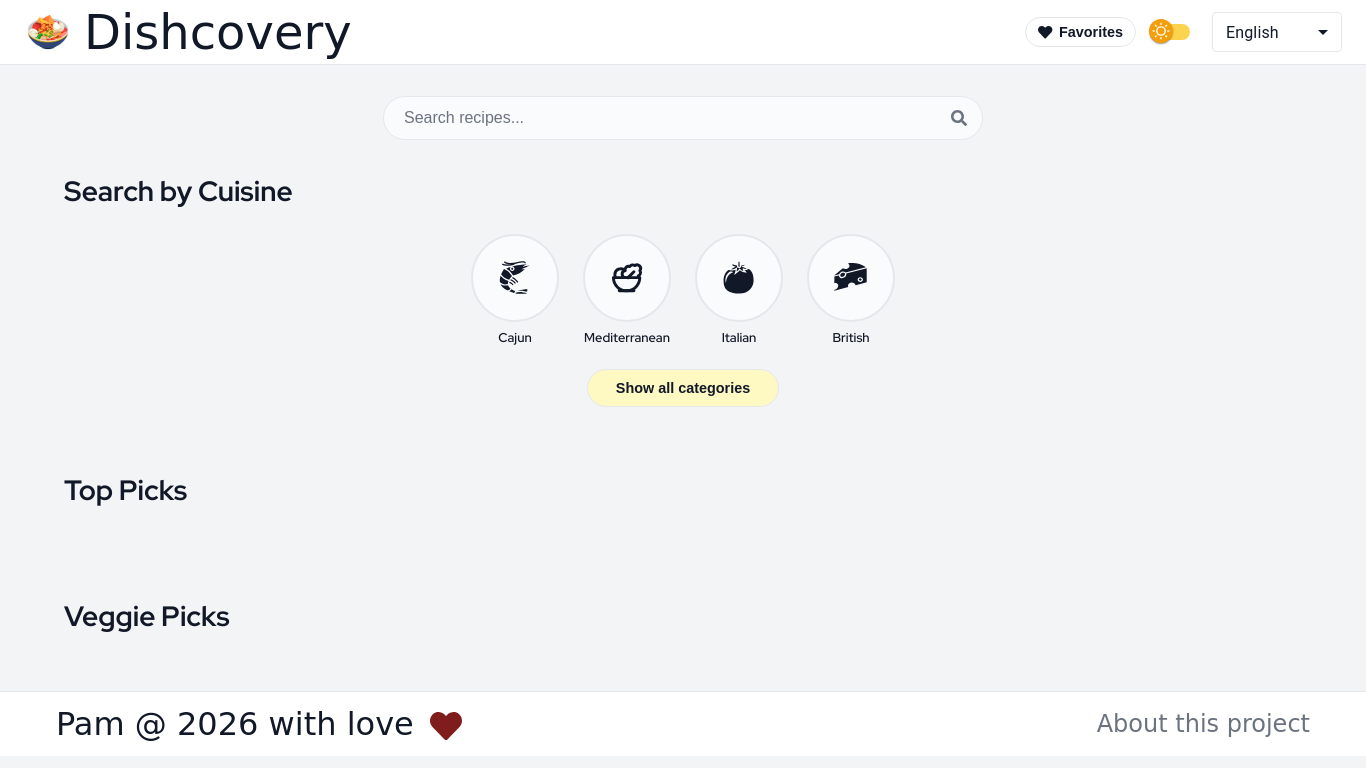
Test: Home page › navigates to the favorites page
Click the link to "/favs" at {"x": 1081, "y": 33}, box [1025,17,1136,48]
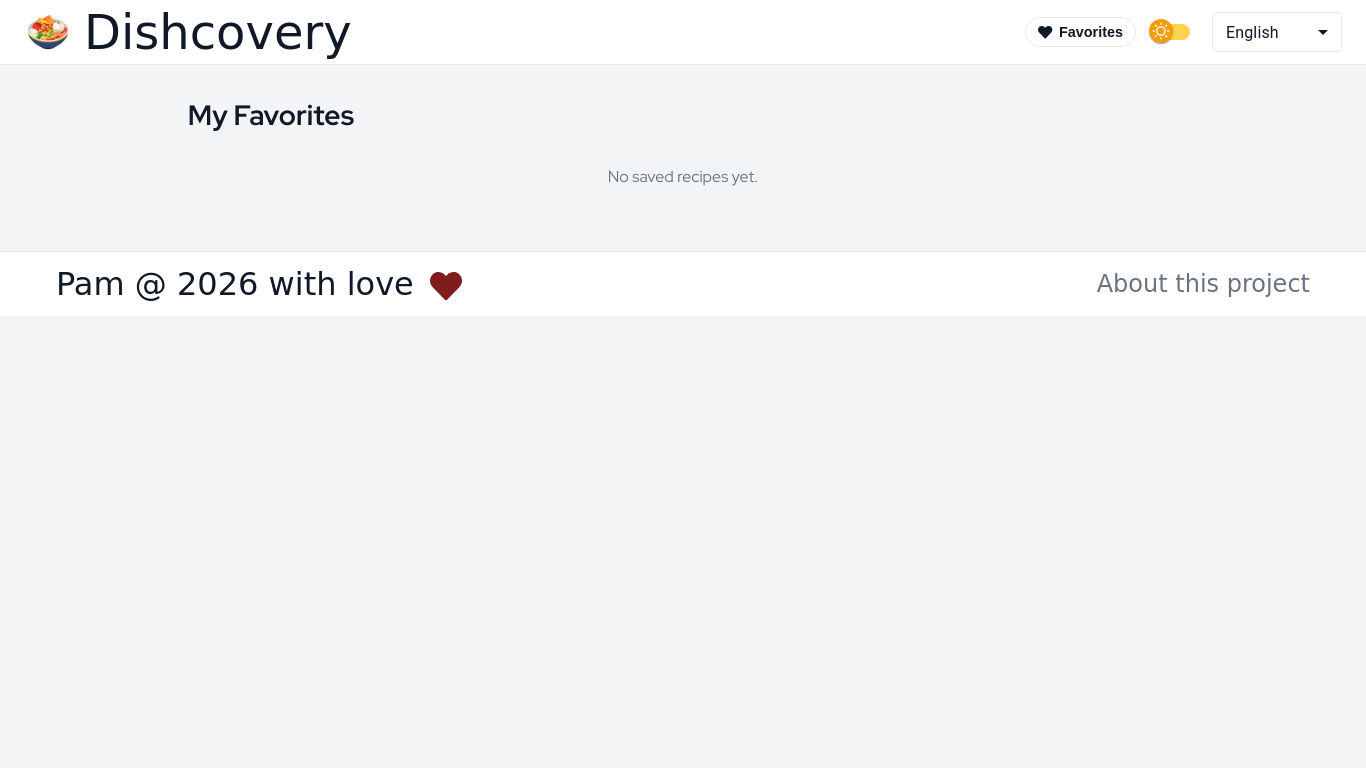
Result: the heading "My Favorites" is shown at [188,96,354,134]
